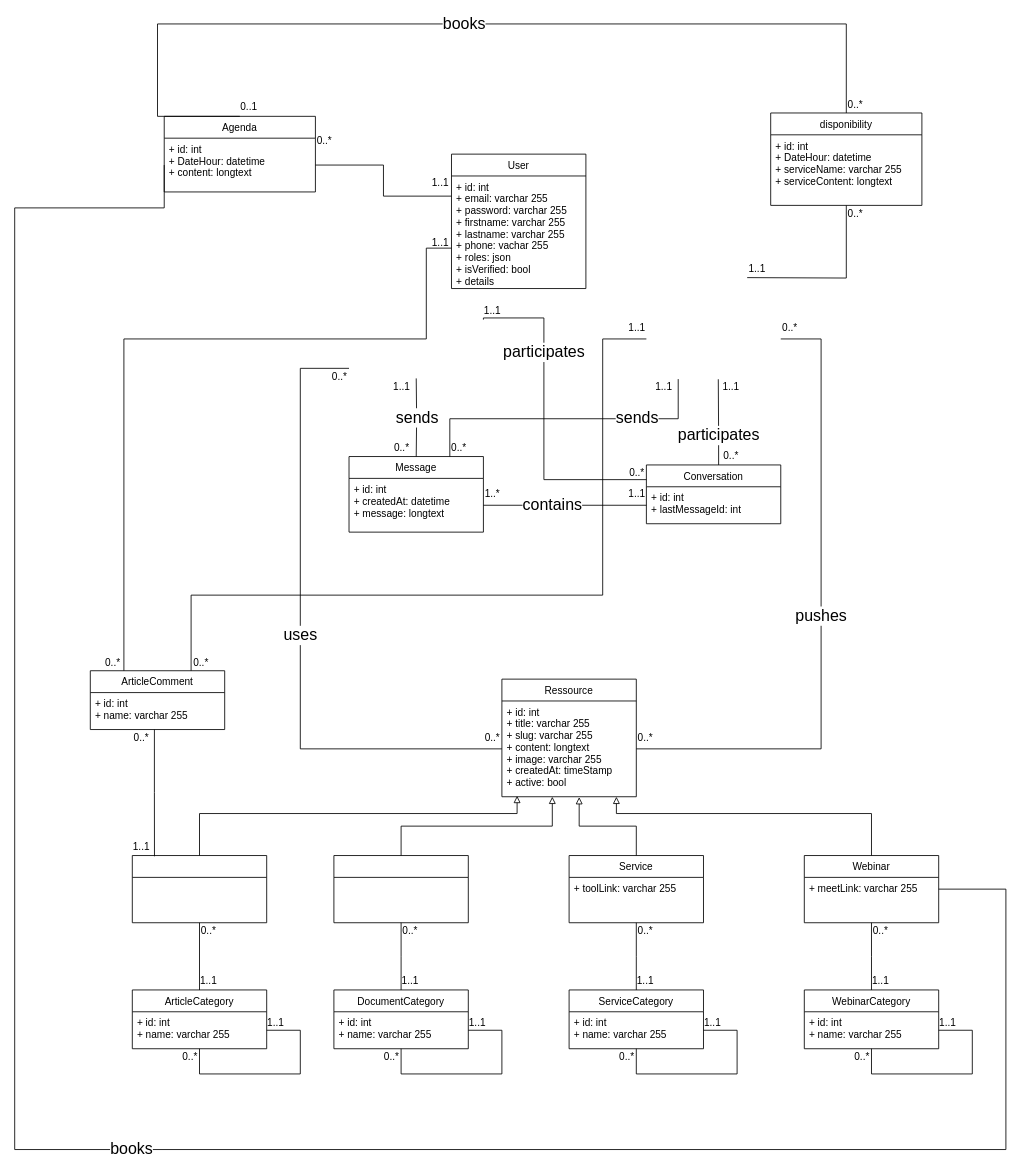
Some shapes in this 1021 by 1173 pixel diagram are drawn without their labels. Each missing label, with the centre of its shape:
"Article" belongs at point (199, 889).
"Document" belongs at point (400, 889).
